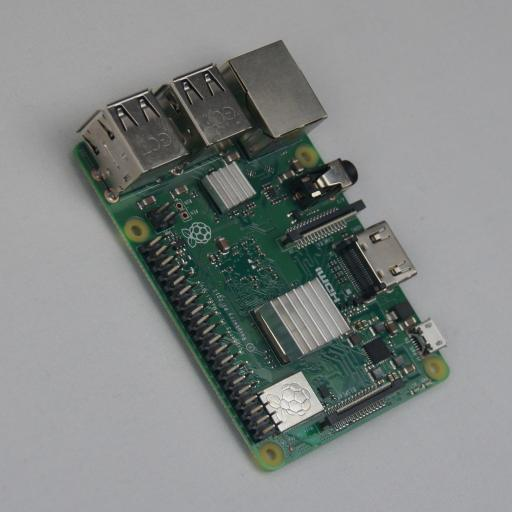Raspberry Pi 3 B-: (68, 40, 448, 472)
